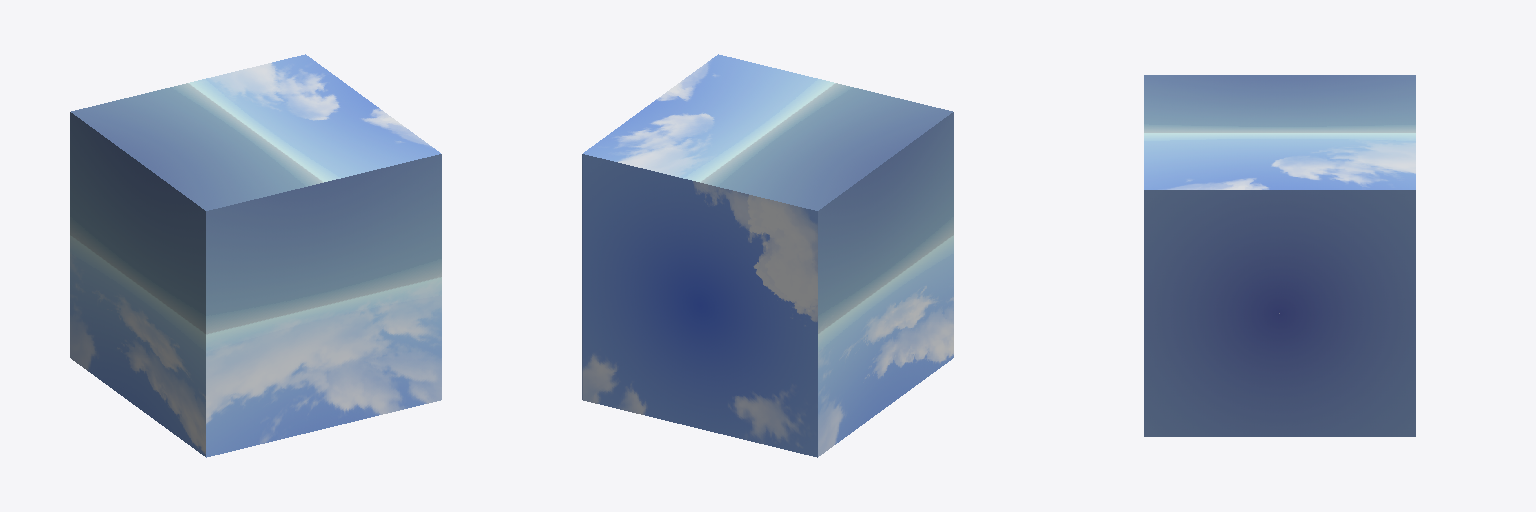
3 views of the same model, side by side, from view 1: azimuth 30°, elevation 25°; view 2: azimuth 150°, elevation 25°; view 3: azimuth 270°, elevation 25° (orthographic).
Parts seen in each view (by area): view 1: Skybox; view 2: Skybox; view 3: Skybox.
Boxes of the visible parts, x1,y1,x2,y2 form: Skybox: [70, 54, 441, 457]; Skybox: [582, 54, 953, 457]; Skybox: [1144, 75, 1415, 436].
Bounding box in the file's own units: 2 × 2 × 2.
Materials: 1 (1 with a texture image).